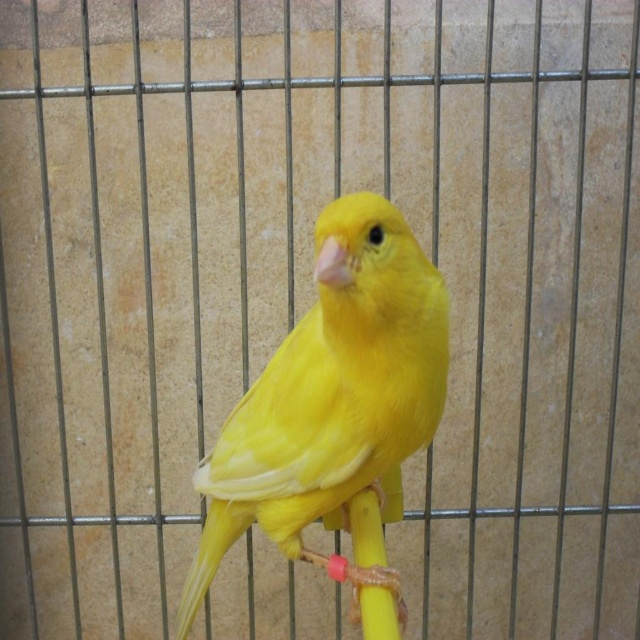Canary: (175, 191, 449, 637)
